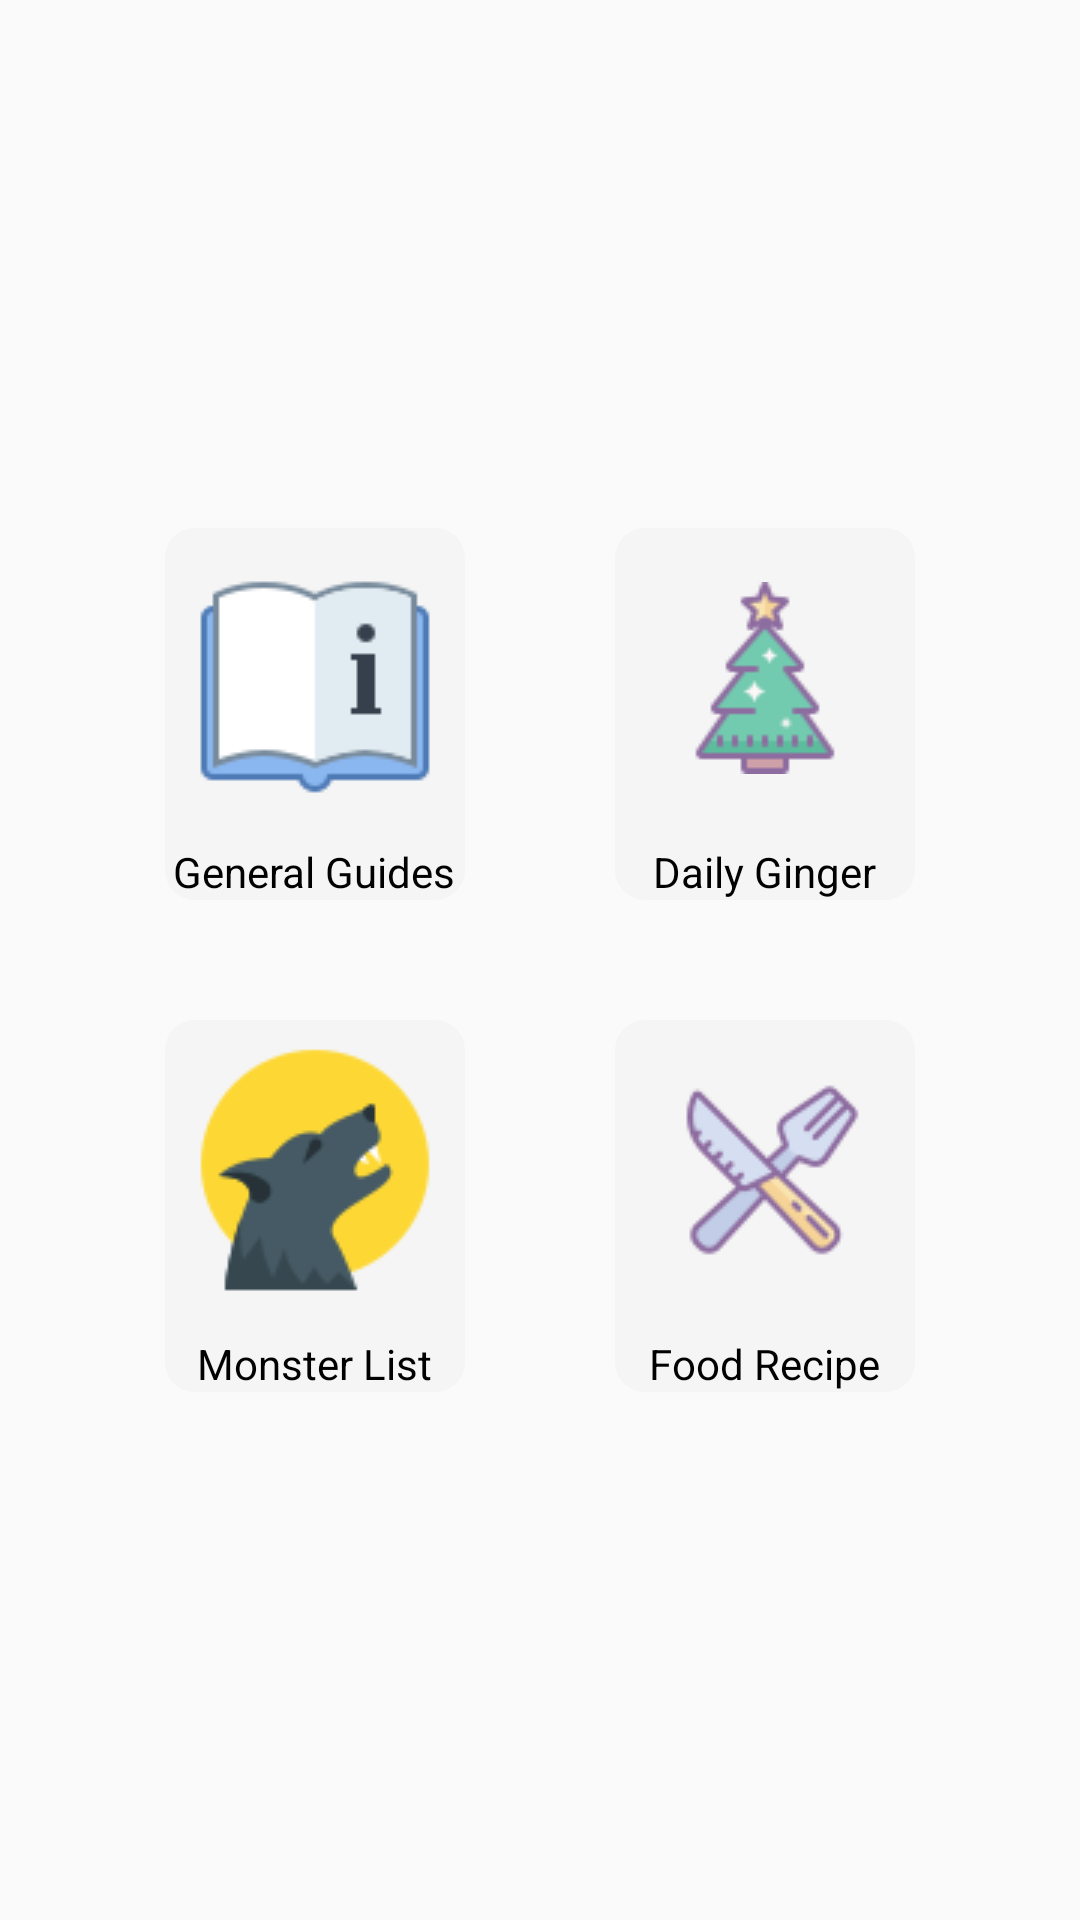

Where icons sit on this 1080w x 1920h app screen, as (x1, y1, x2, y2):
christmas tree: (695, 582, 835, 774)
restaurant: (686, 1085, 859, 1255)
user manual: (200, 581, 430, 793)
werewolf: (200, 1049, 430, 1291)
